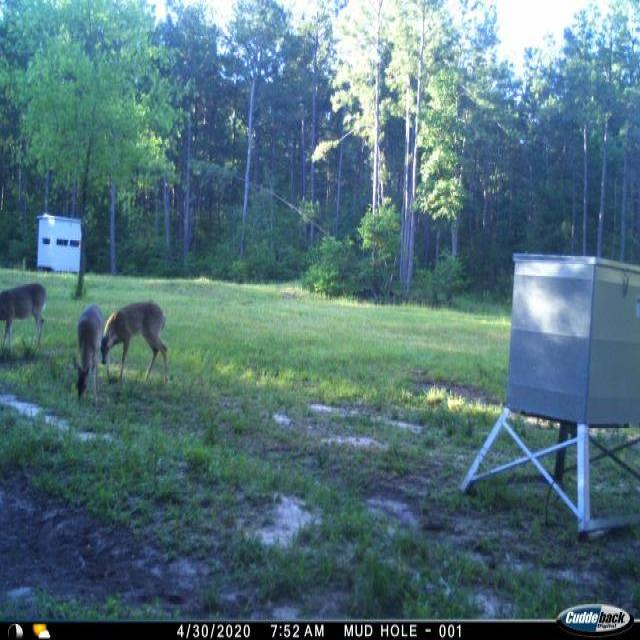deer: (100, 298, 171, 393), (0, 280, 49, 359), (71, 301, 105, 406)
